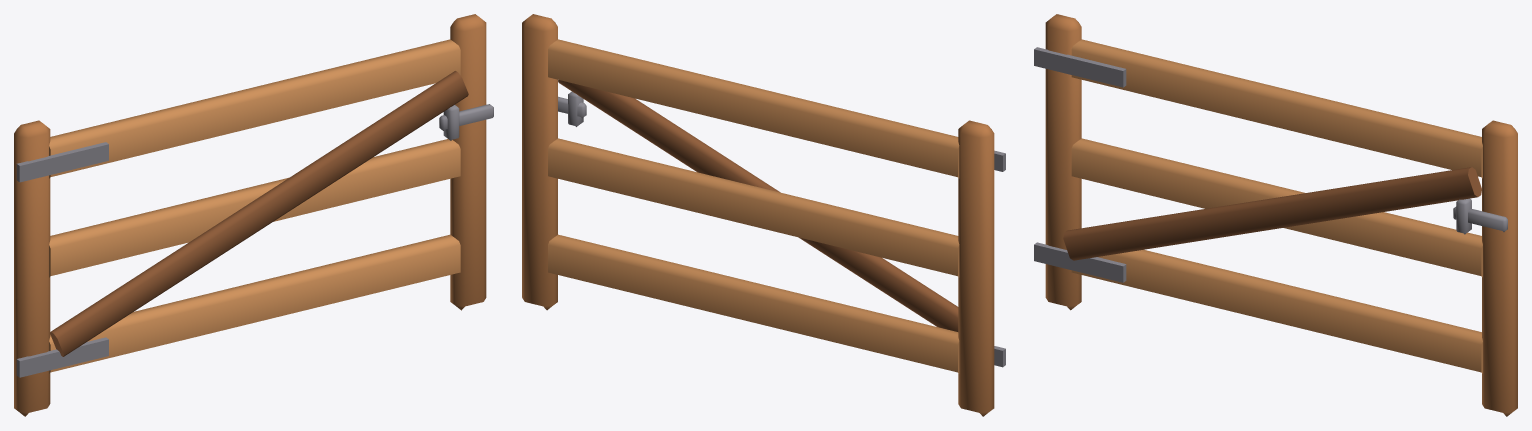
File: gate_wood.glb
The picture shows the model from 3 angles, left to right: view 1: azimuth 30°, elevation 25°; view 2: azimuth 150°, elevation 25°; view 3: azimuth 330°, elevation 25°; orthographic projection.
Parts seen in each view (by area): view 1: gate_wood; view 2: gate_wood; view 3: gate_wood.
Part boxes in pixels (x1,y1,x2,y2): gate_wood: (14,14,493,416); gate_wood: (522,14,1005,416); gate_wood: (1034,14,1517,416).
Bounding box in the file's own units: 1.8 × 1.05 × 0.127.
Materials: 1 (1 with a texture image).
